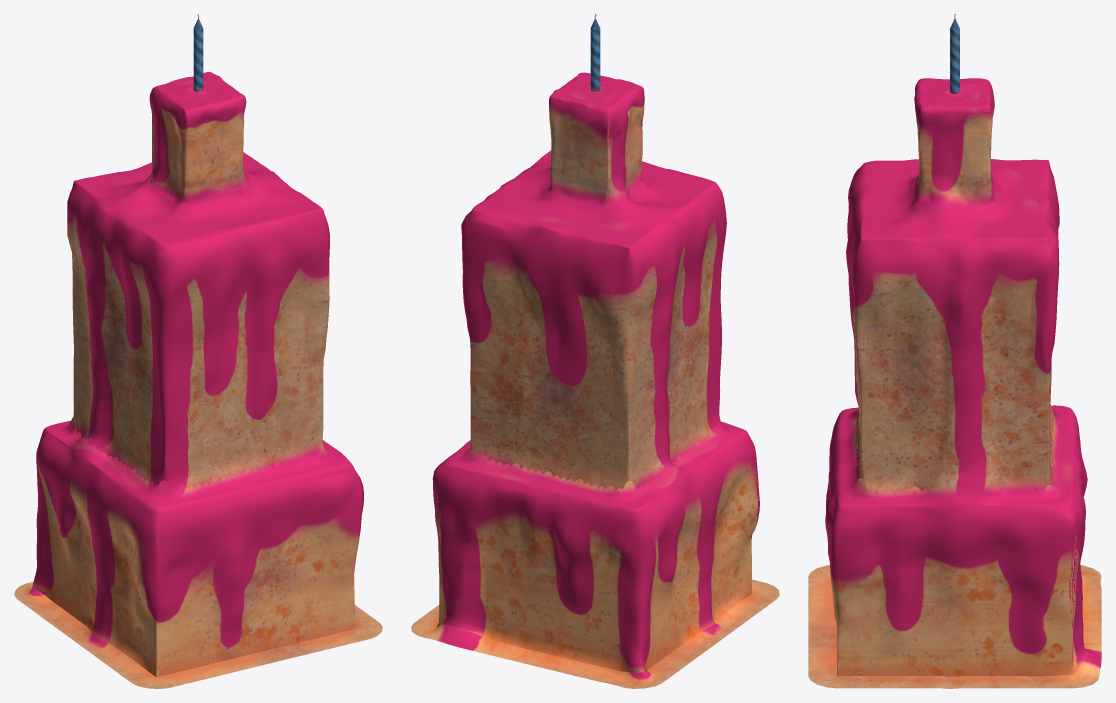
File: Cakee.fbx
The picture shows the model from 3 angles, left to right: view 1: azimuth 30°, elevation 25°; view 2: azimuth 150°, elevation 25°; view 3: azimuth 270°, elevation 25°; orthographic projection. The views are drawn at different scales.
Visible parts, largest first — view 1: CAake; view 2: CAake; view 3: CAake.
Part boxes in pixels (bbox=[...]): CAake: bbox=[14, 14, 382, 688]; CAake: bbox=[411, 14, 779, 688]; CAake: bbox=[808, 14, 1101, 688].
Bounding box in the file's own units: 1246 × 2870 × 1246.
